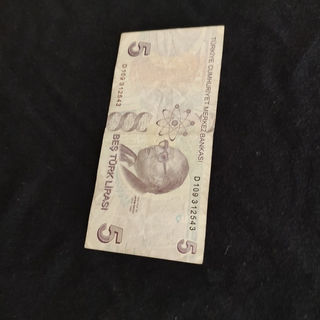5TLBack: (83, 25, 225, 264)
